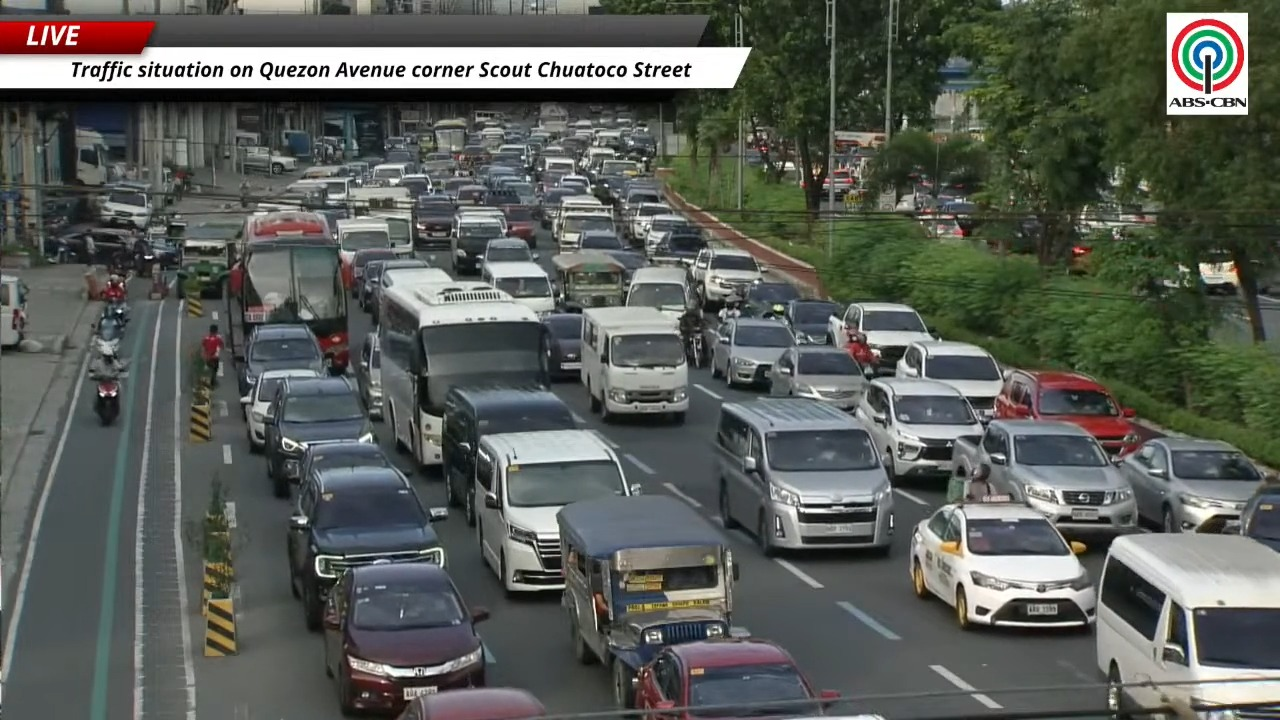bus: (377, 281, 549, 466), (228, 211, 351, 373), (432, 119, 468, 159)
car: (286, 466, 446, 631), (324, 563, 488, 713), (909, 501, 1095, 628), (441, 385, 576, 525), (634, 638, 838, 719), (1118, 437, 1262, 532), (264, 378, 376, 497), (995, 369, 1141, 456), (895, 340, 1003, 417), (828, 302, 935, 373), (241, 368, 319, 452), (237, 324, 326, 396), (768, 345, 867, 409), (711, 318, 794, 386), (398, 687, 546, 719), (362, 258, 431, 323), (692, 247, 763, 309), (1223, 476, 1279, 550), (300, 441, 394, 477), (542, 313, 582, 379), (783, 299, 841, 344), (354, 332, 383, 419), (625, 190, 673, 242), (351, 248, 396, 299), (741, 280, 800, 318), (414, 195, 455, 249), (642, 212, 694, 254), (651, 228, 706, 267), (480, 237, 536, 268), (603, 249, 648, 287), (503, 197, 536, 247), (356, 260, 383, 309), (578, 230, 625, 250)
motorcycle: (95, 378, 120, 425), (684, 331, 706, 367), (102, 301, 128, 326), (94, 335, 118, 356)
truck: (952, 419, 1136, 535), (581, 307, 689, 423), (75, 127, 110, 186), (239, 146, 297, 174), (539, 103, 568, 133)
